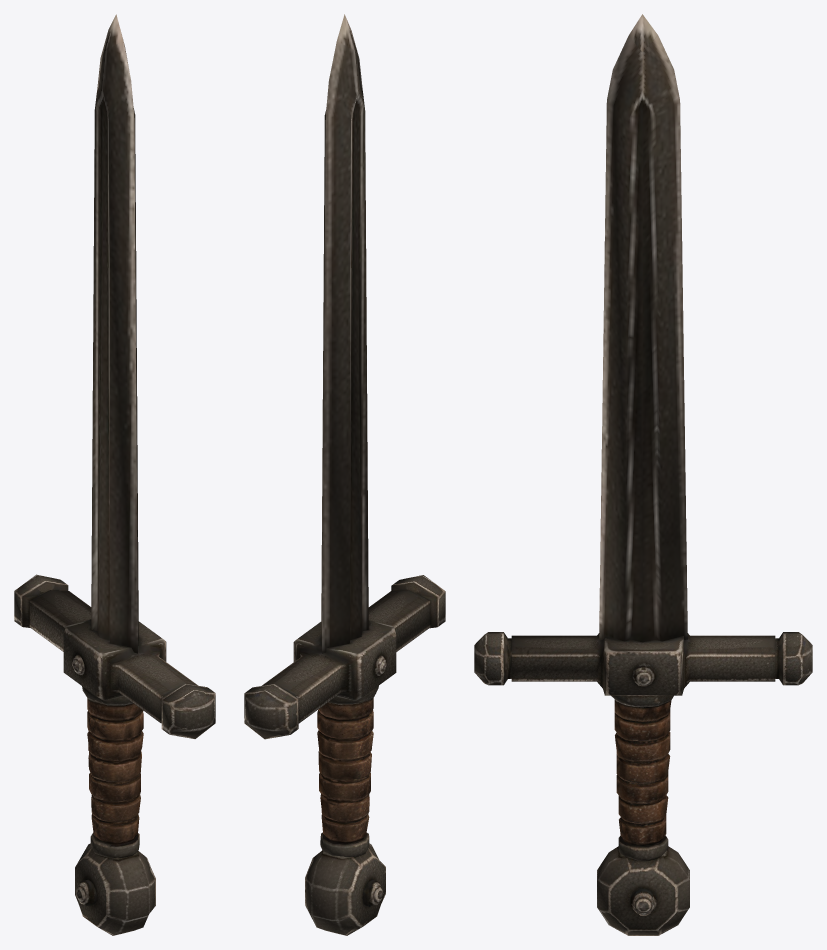
The model's file is Sword.fbx.
The picture shows the model from 3 angles, left to right: view 1: azimuth 30°, elevation 25°; view 2: azimuth 150°, elevation 25°; view 3: azimuth 270°, elevation 25°; orthographic projection.
Visible parts, largest first — view 1: Sword; view 2: Sword; view 3: Sword.
Boxes of the visible parts, <box> form: Sword: <box>14,14,215,935</box>; Sword: <box>244,14,445,935</box>; Sword: <box>474,14,812,935</box>.
Bounding box in the file's own units: 9.57 × 99.8 × 33.4.
